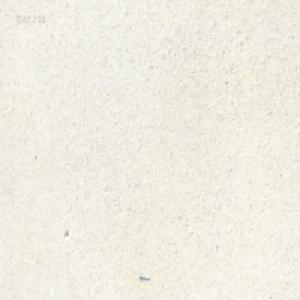Nail: (139, 272, 150, 281)
